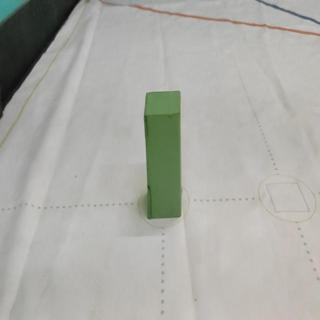greenbox: (141, 87, 184, 219)
